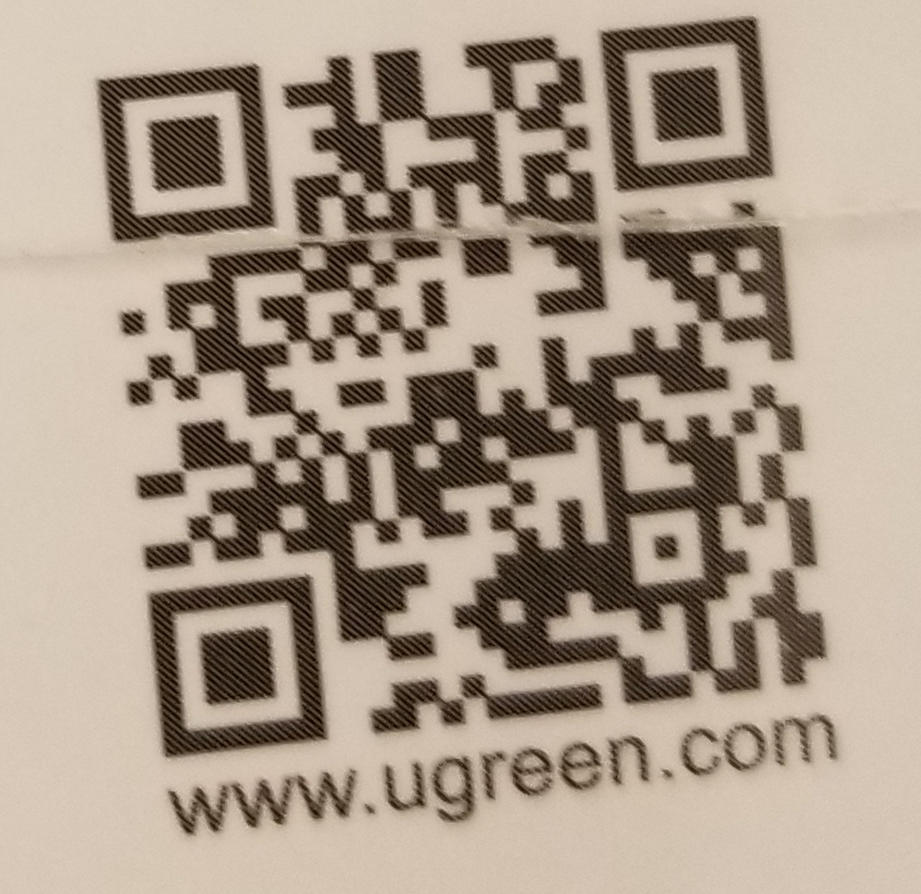QR_CODE: (78, 9, 842, 760)
